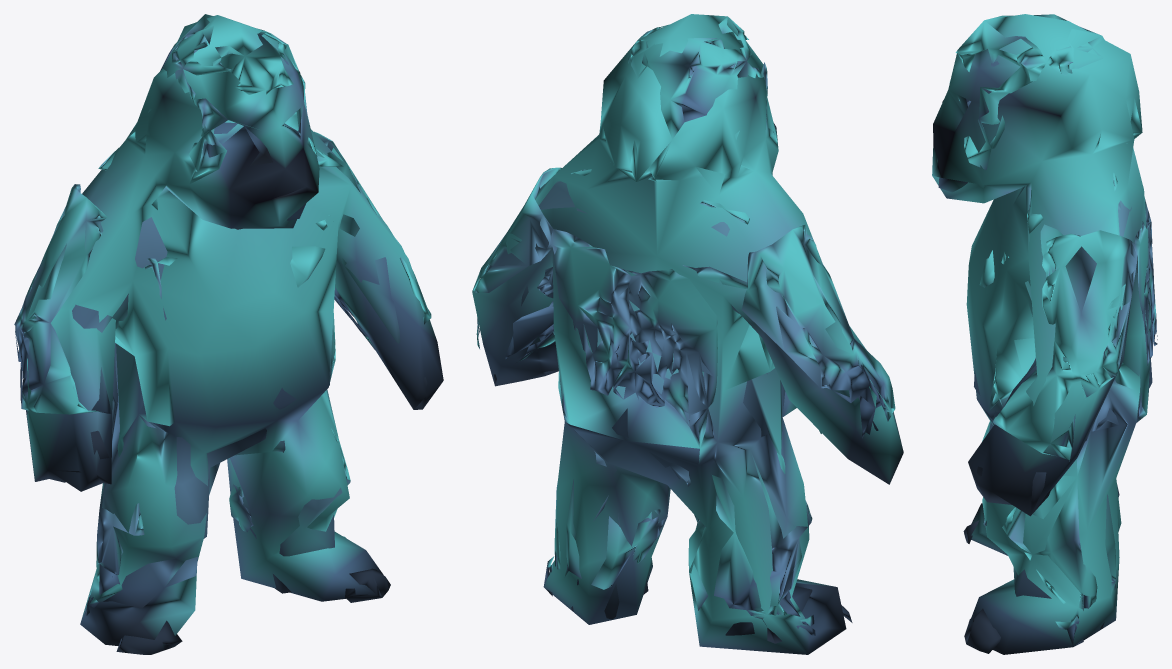
Rendered from gen3d-snow-yeti-lod0.glb.
3 views of the same model, side by side, from view 1: azimuth 30°, elevation 25°; view 2: azimuth 150°, elevation 25°; view 3: azimuth 270°, elevation 25° (orthographic).
Parts seen in each view (by area): view 1: part_0; view 2: part_0; view 3: part_0.
Part boxes in pixels (x1=…): part_0: x1=14, y1=14, x2=443, y2=654; part_0: x1=472, y1=14, x2=903, y2=654; part_0: x1=932, y1=14, x2=1157, y2=654.
Bounding box in the file's own units: 0.7271 × 1 × 0.3527.
